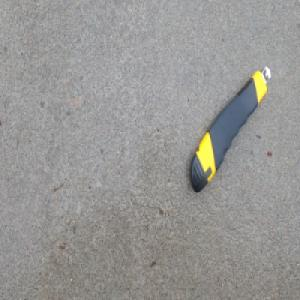Cutter: (188, 66, 272, 195)
